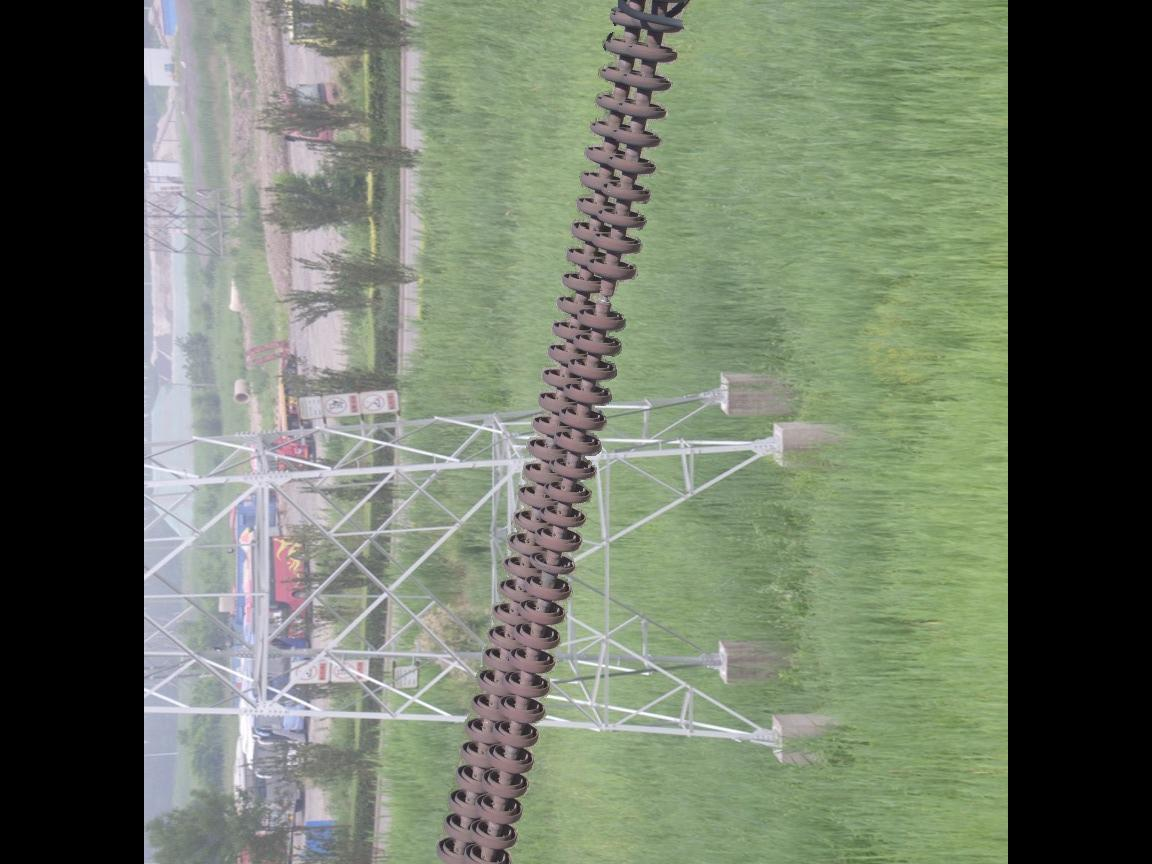insulator: (430, 1, 689, 864)
insulator_stringdrop: (574, 258, 640, 337)
